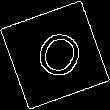O_SW: (25, 23, 85, 87)
